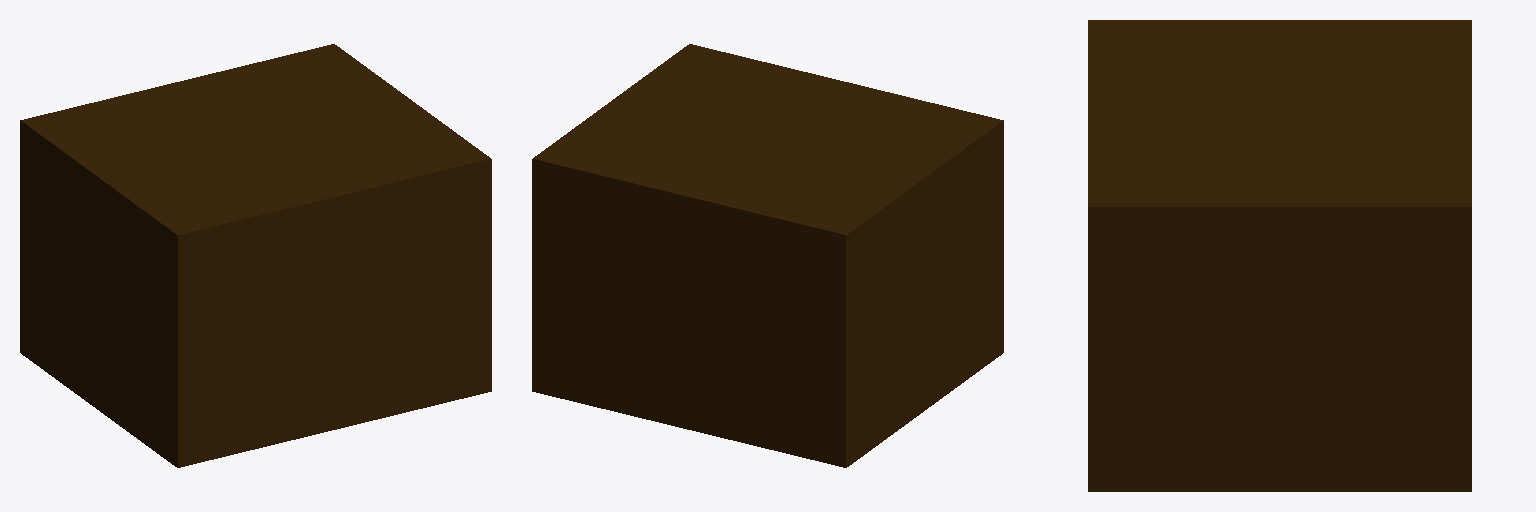
URDF robot description (box3):
<?xml version="1.0" ?>
<robot name="box3">
  <link name="box3_body">
    <visual>
      <origin xyz="0 0 0" rpy="0 0 0"/>
      <geometry>
        <box size="0.165 0.143 0.117"/>
      </geometry>
      <material name="CardBoard">
        <color rgba="0.2667536437511444 0.17454615235328674 0.06440283358097076 1" />
      </material>
    </visual>
    <collision>
      <origin xyz="0 0 0" rpy="0 0 0"/>
      <geometry>
        <box size="0.165 0.143 0.117"/>
      </geometry>
    </collision>
    <inertial>
      <origin xyz="0 0 0" rpy="0 0 0"/>
      <mass value="0.316"/>
      <inertia ixx="0.000899" ixy="0" ixz="0" iyy="0.001077" iyz="0" izz="0.001255" />
    </inertial>
  </link>
</robot>

--- Render facts (derived) ---
Views: 3 orthographic renders of the robot side by side, from view 1: azimuth 30°, elevation 25°; view 2: azimuth 150°, elevation 25°; view 3: azimuth 270°, elevation 25°.
Model box3 with 1 links and 0 joints (none), rooted at box3_body, posed every joint at zero.
Visible links, largest first — view 1: box3_body; view 2: box3_body; view 3: box3_body.
Boxes of the visible links, x1,y1,x2,y2 form: box3_body: (20,44,491,467); box3_body: (532,44,1003,467); box3_body: (1088,20,1471,491).
Size in the robot's own frame: 0.165 by 0.143 by 0.117 metres.
Geometry: primitives only (box / cylinder / sphere), no mesh files.